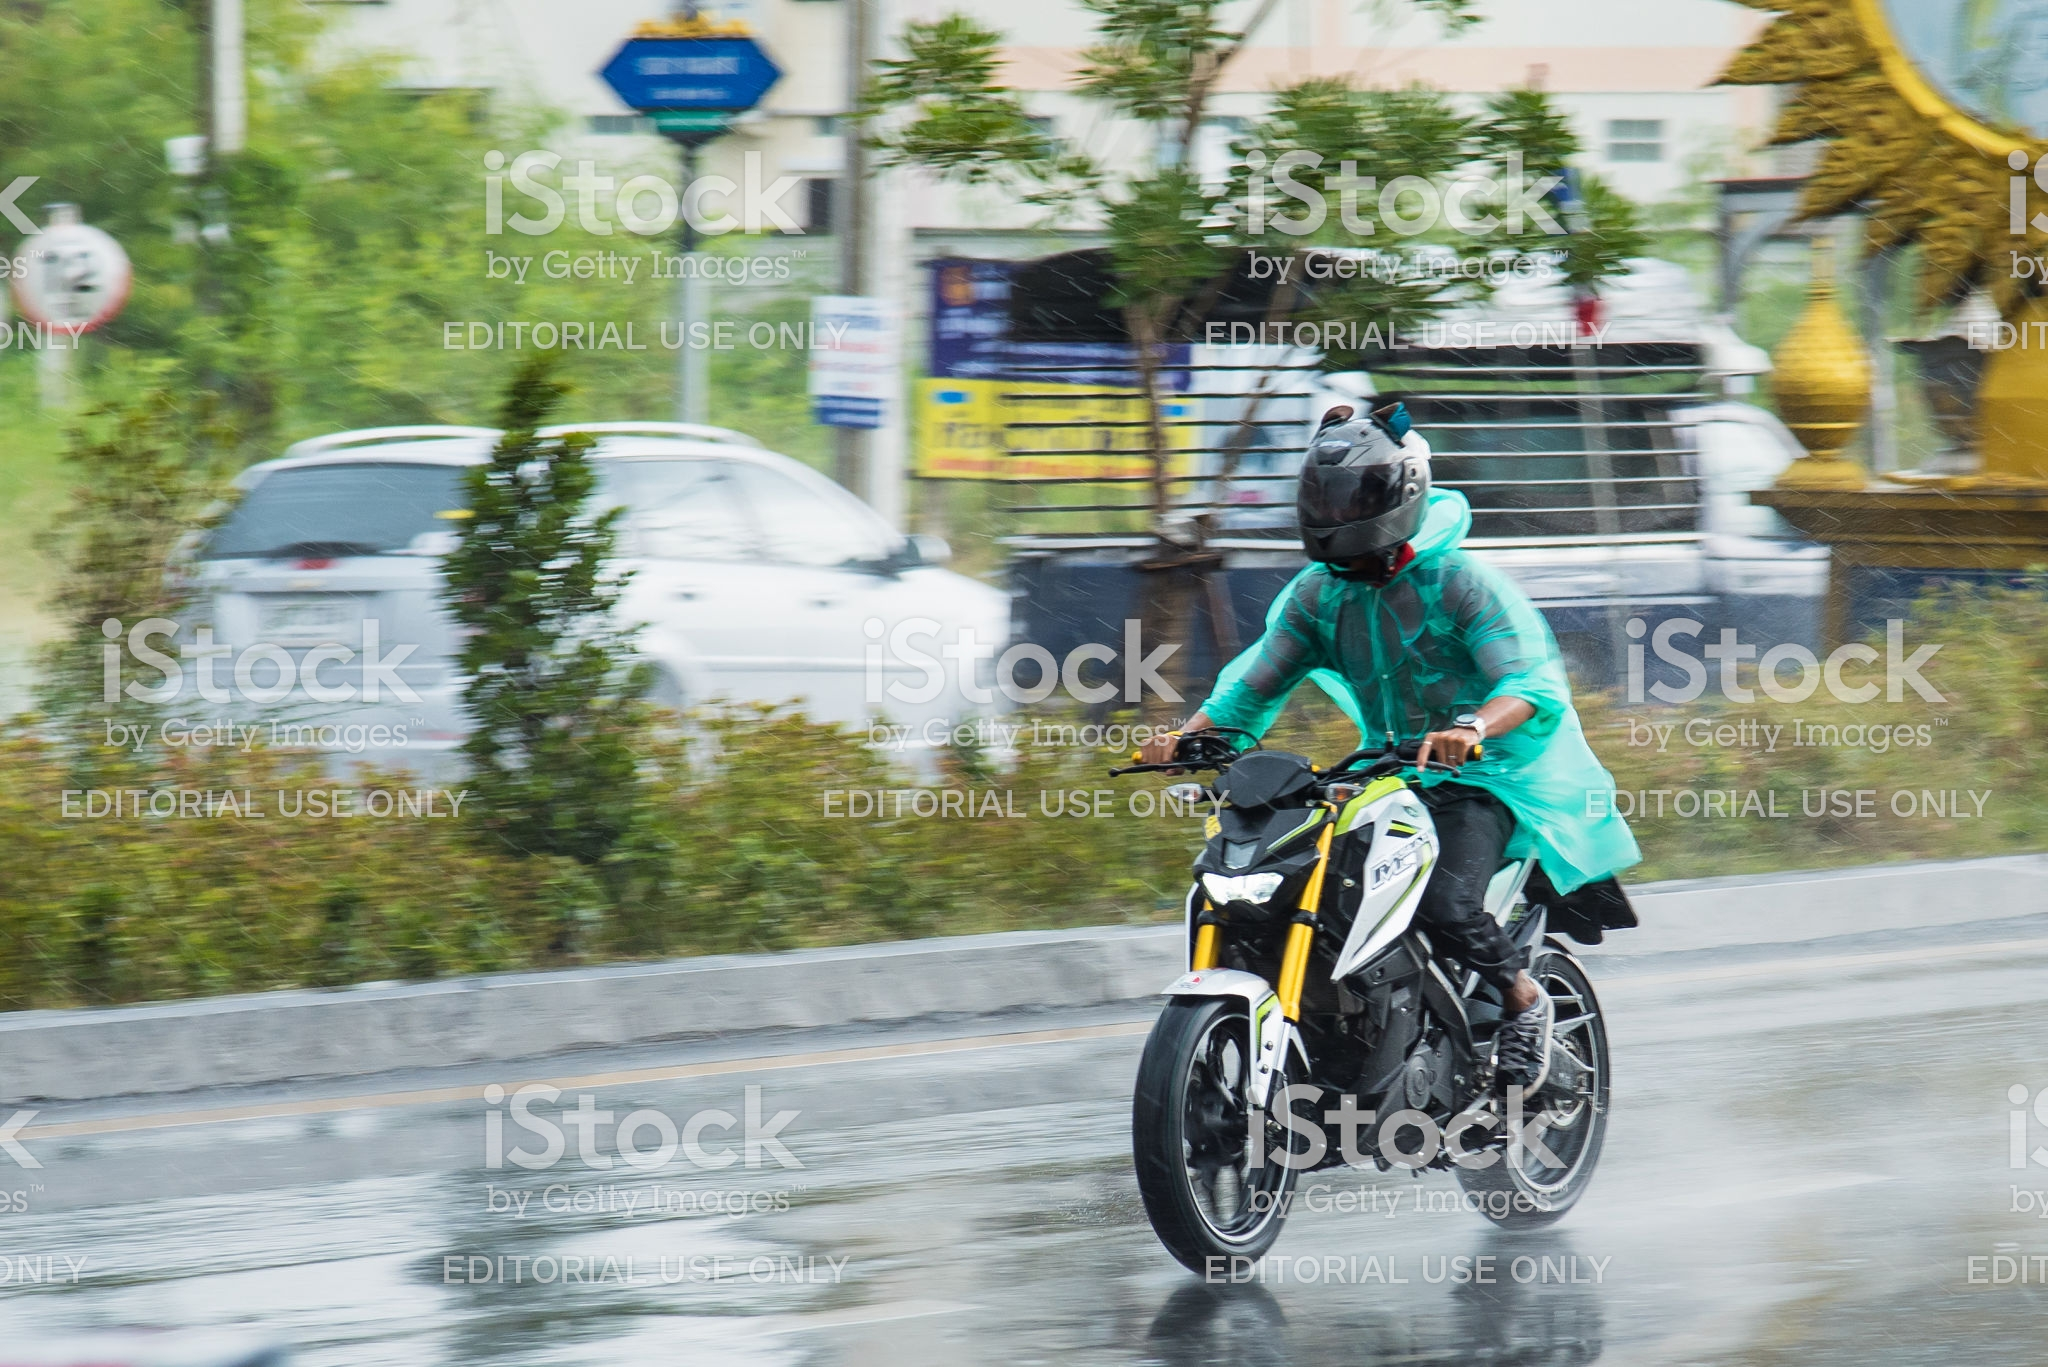helmet: (1273, 395, 1452, 548)
